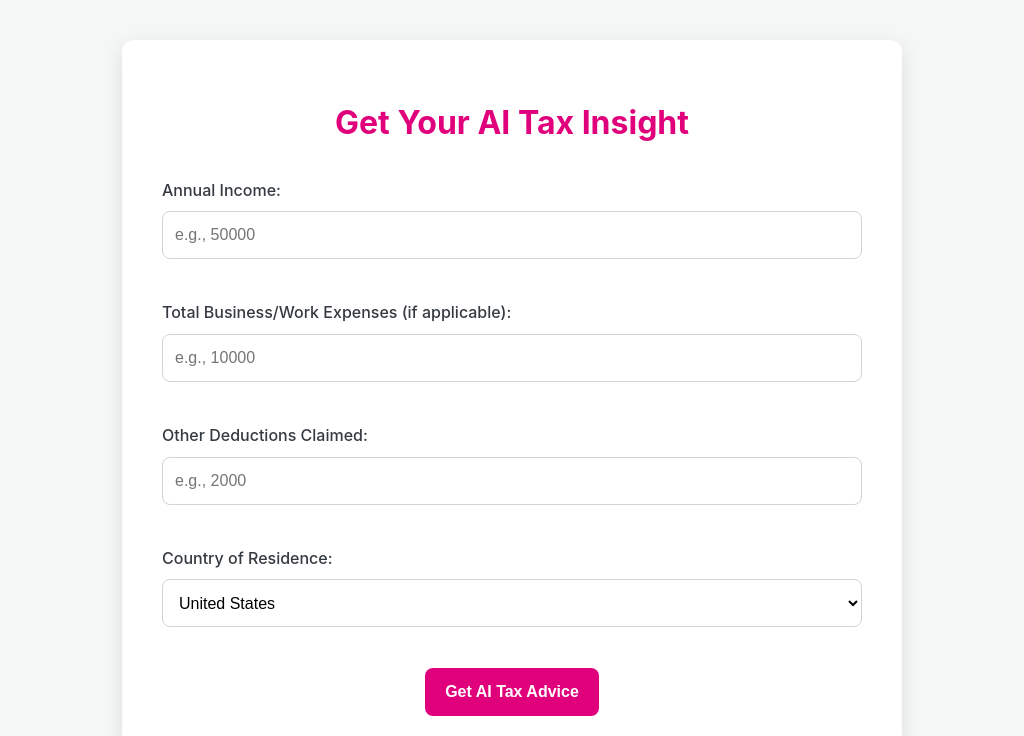
Test: TaxForm Component › shows error if income is negative
Type "-100" into the number field labelled "Annual Income:" at (512, 235), box [162,211,862,259]
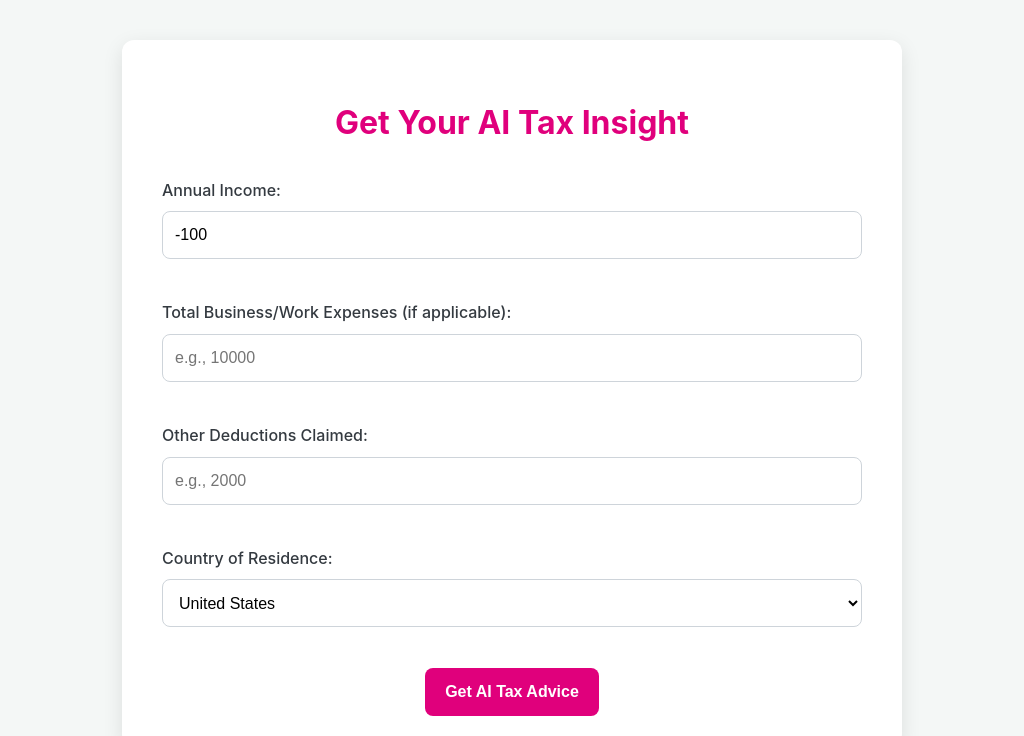
Type "100" into the number field labelled "Total Business/Work Expenses (if applicable):" at (512, 358), box [162,334,862,382]
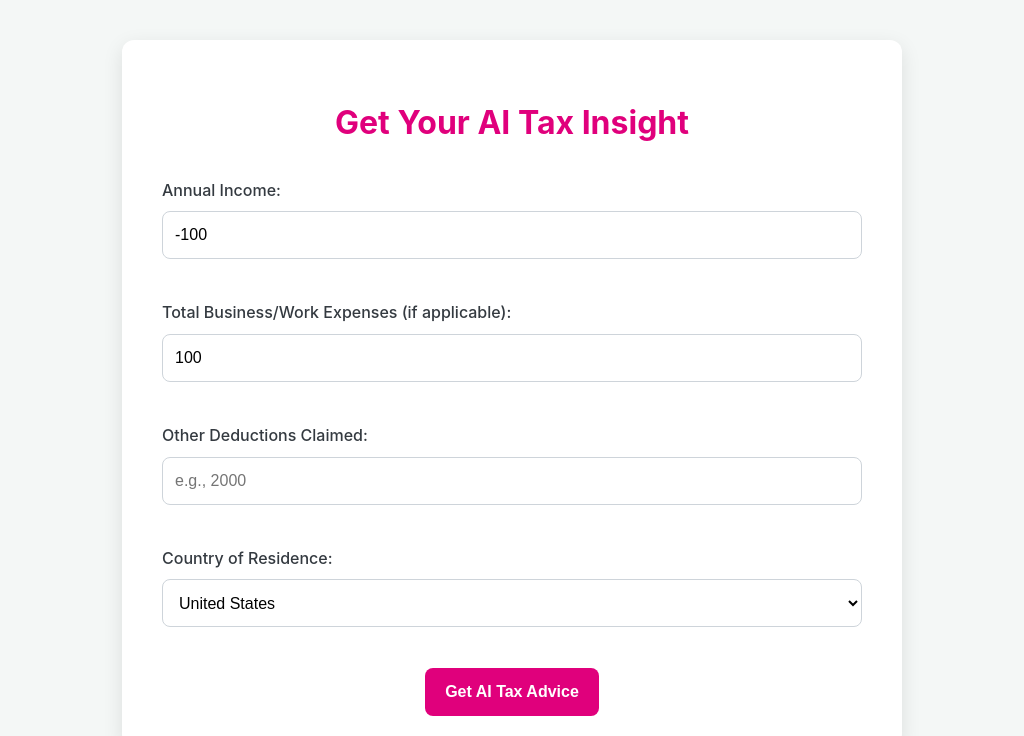
Select "United States" in the dropdown labelled "Country of Residence:" at (512, 603), box [162,579,862,627]
Click the button "Get AI Tax Advice" at (512, 692), box [425,668,599,716]
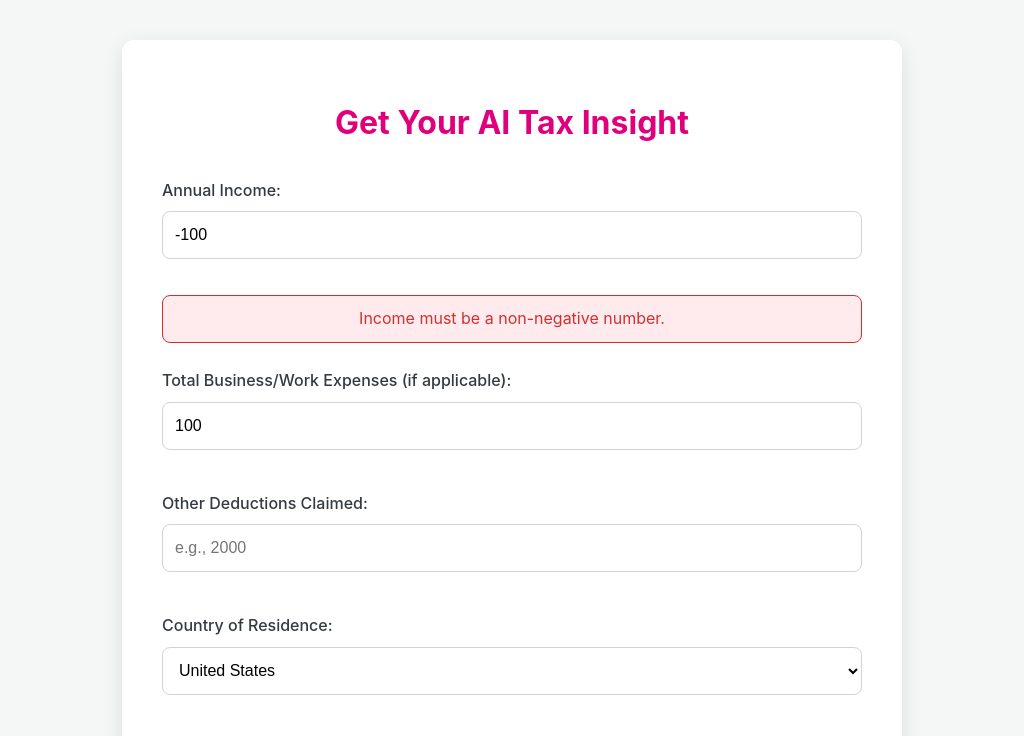
Expected: the text "Income must be a non-negative number." is shown, [162,295,862,343]
